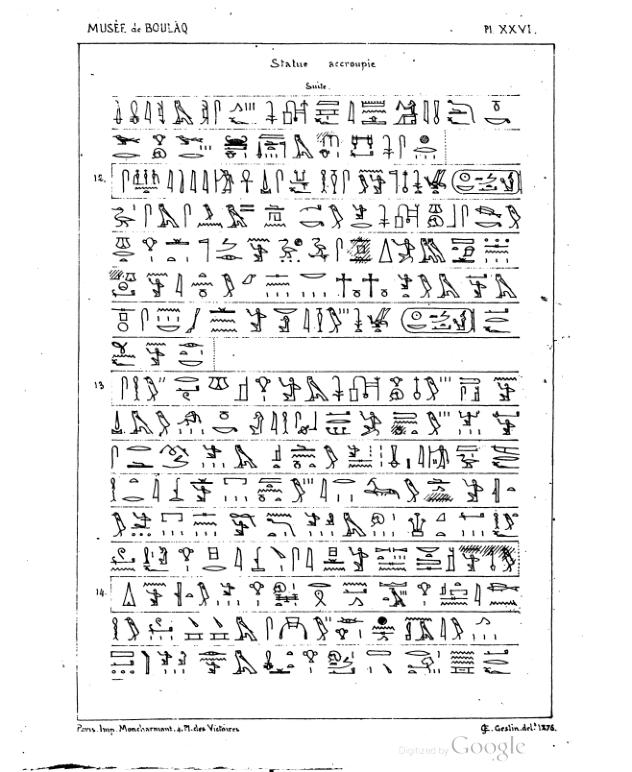circle: (399, 307, 478, 335), (451, 168, 526, 196)
